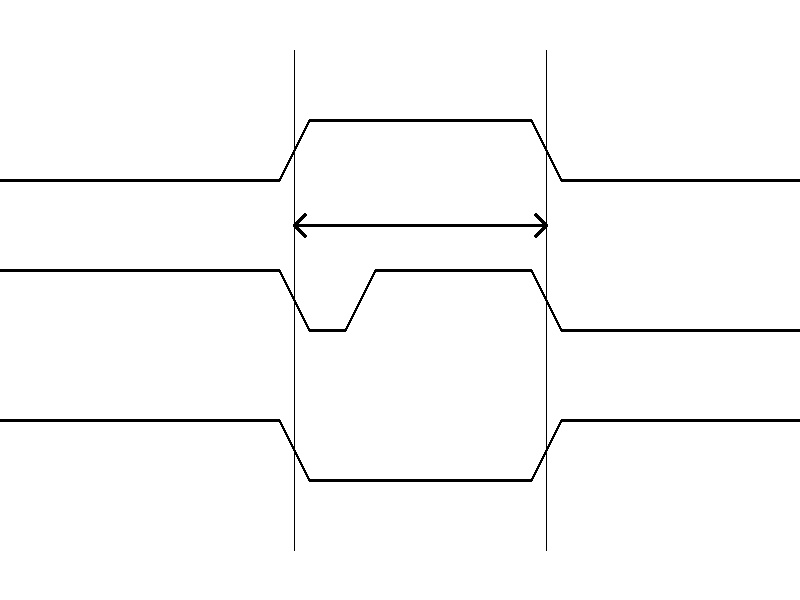double_arrow: (294, 210, 546, 240)
